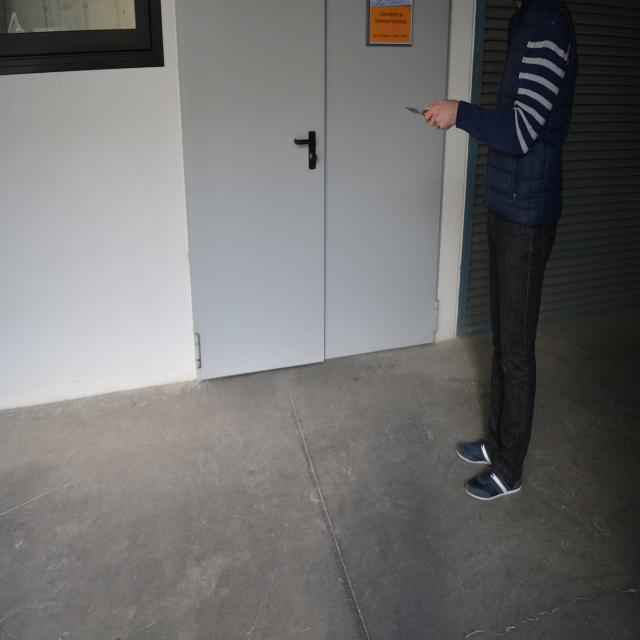knife: (404, 104, 429, 126)
